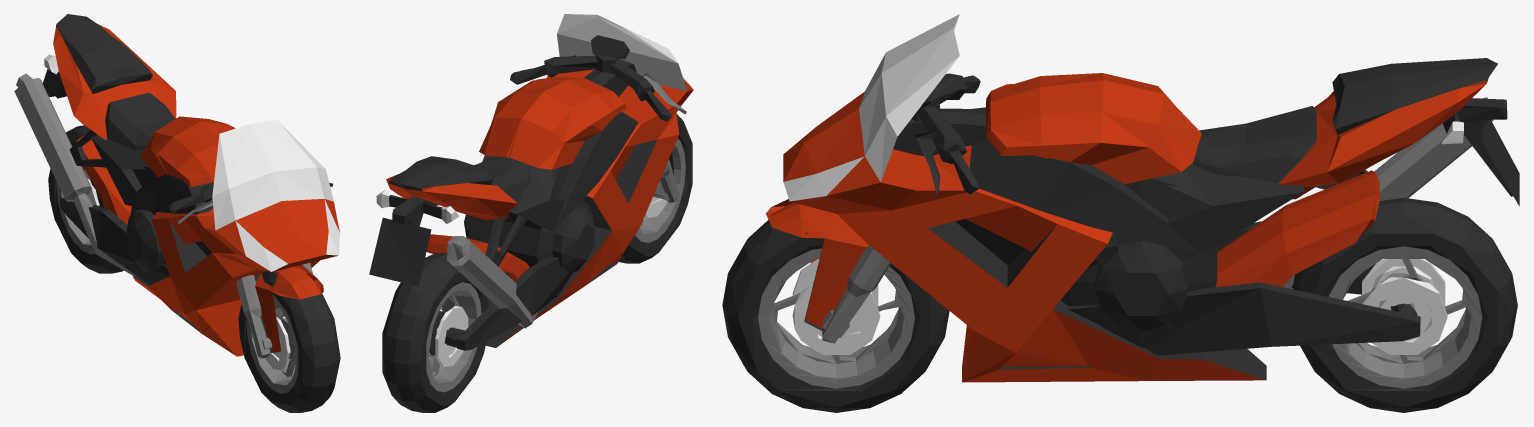
Rendered from moto-2.glb.
3 renders of one model, left to right at view 1: azimuth 30°, elevation 25°; view 2: azimuth 150°, elevation 25°; view 3: azimuth 270°, elevation 25°, orthographic. The views are drawn at different scales.
Parts seen in each view (by area): view 1: Motorcycle; view 2: Motorcycle; view 3: Motorcycle.
Part boxes in pixels (bbox=[...]): Motorcycle: bbox=[14, 14, 340, 412]; Motorcycle: bbox=[369, 14, 693, 412]; Motorcycle: bbox=[722, 14, 1519, 412].
Bounding box in the file's own units: 0.5716 × 0.8958 × 1.7.
Materials: 1 (1 with a texture image).
